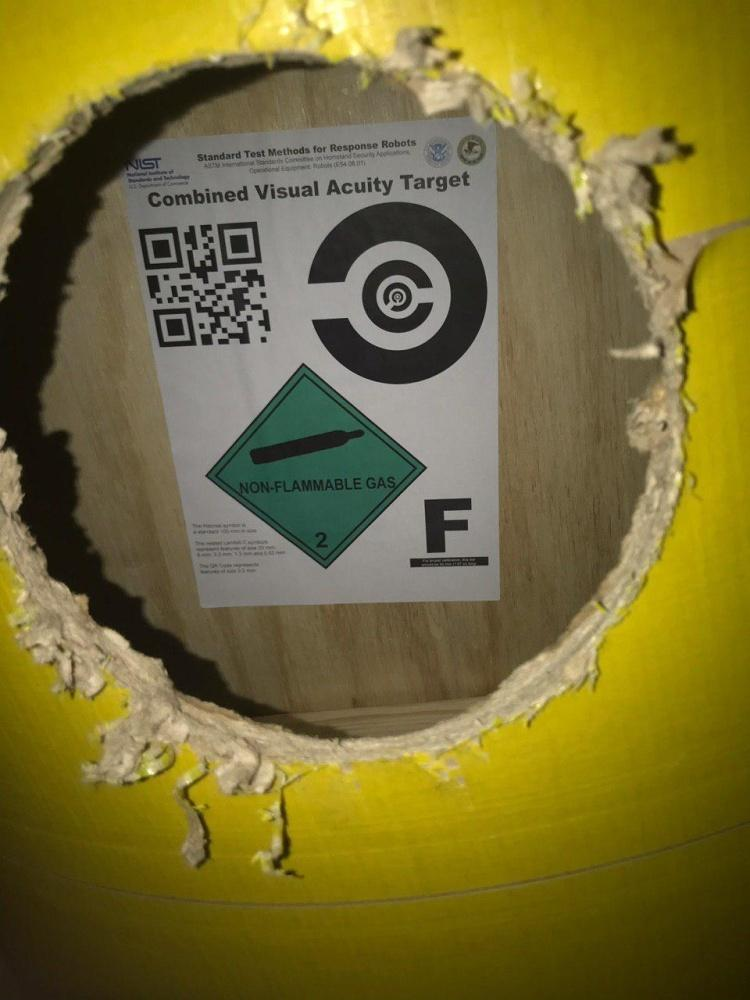non-flammable-gas: (207, 365, 427, 568)
